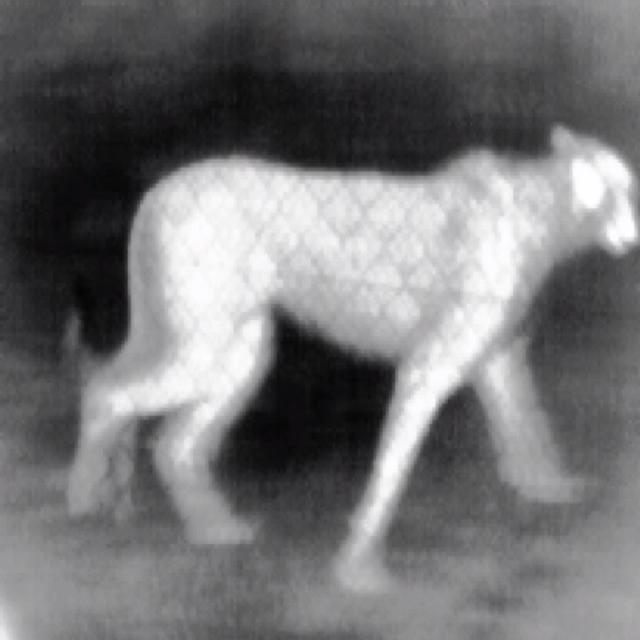cheetah: (70, 125, 639, 596)
